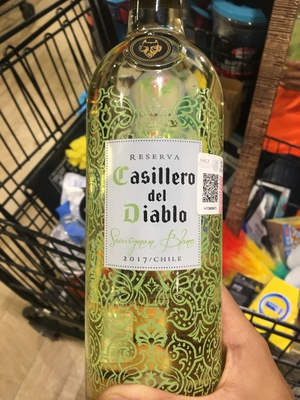casillero del diablo sauvignon blanc: (71, 24, 233, 379)
